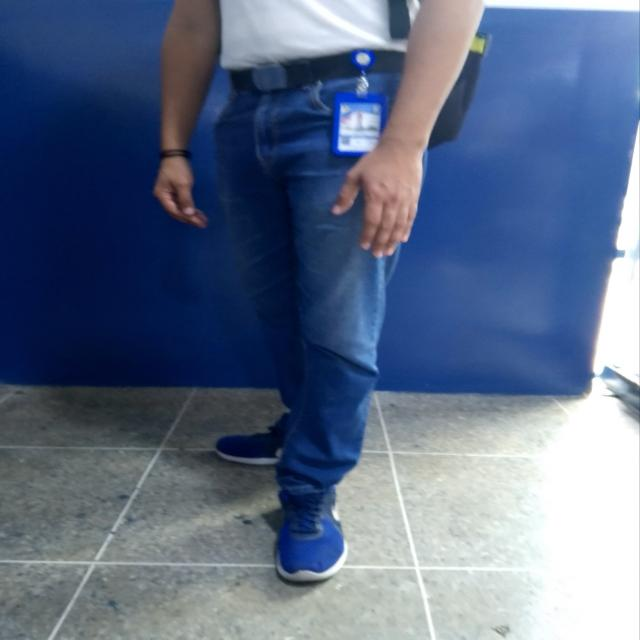carnet: (336, 100, 383, 152)
pantalon_oscuro: (213, 71, 402, 496)
